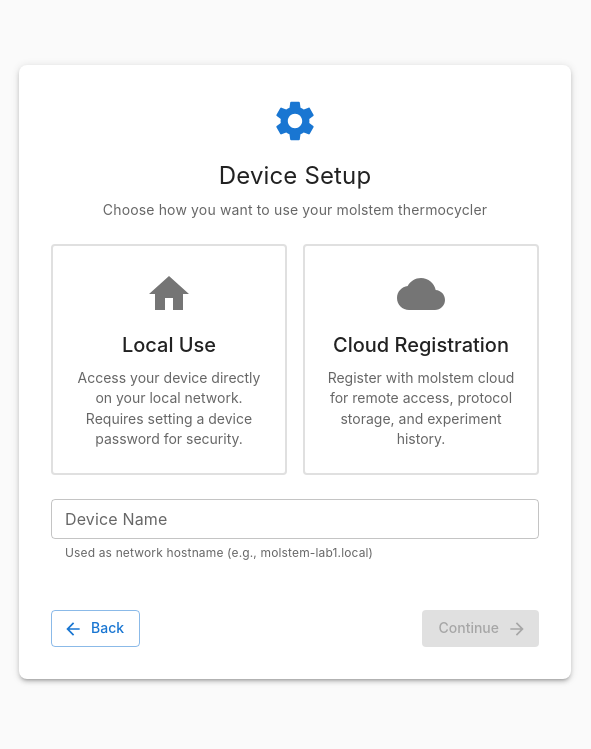
Test: SetupModePage › shows password fields when Local mode is selected
The image size is (591, 749).
// Click Local Use card
Click the heading "Local Use" at (169,346), box [122,334,216,358]
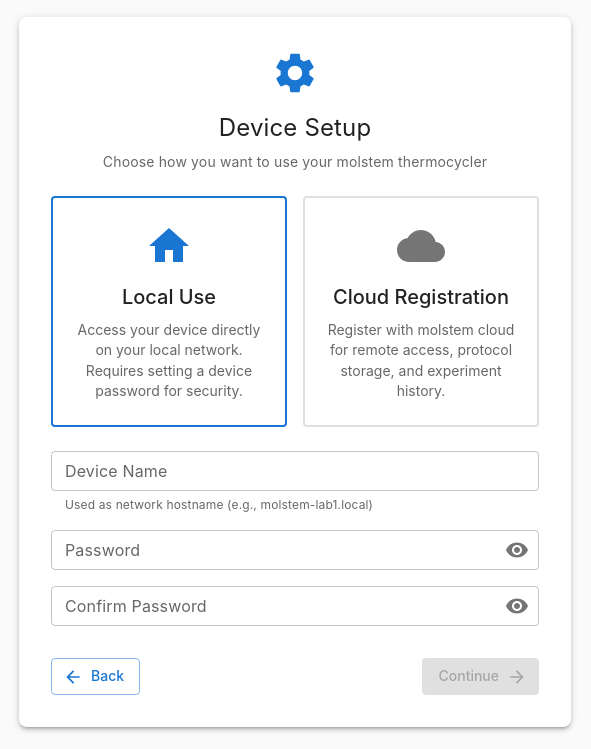
Result: the password field labelled "Password" is shown at [51,530,489,570]
Result: the password field labelled "Confirm Password" is shown at [51,586,489,626]
